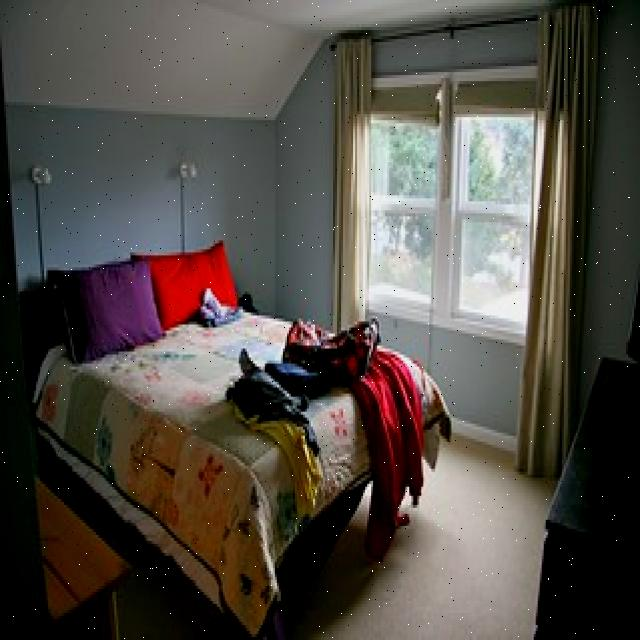bed: (33, 239, 450, 620)
